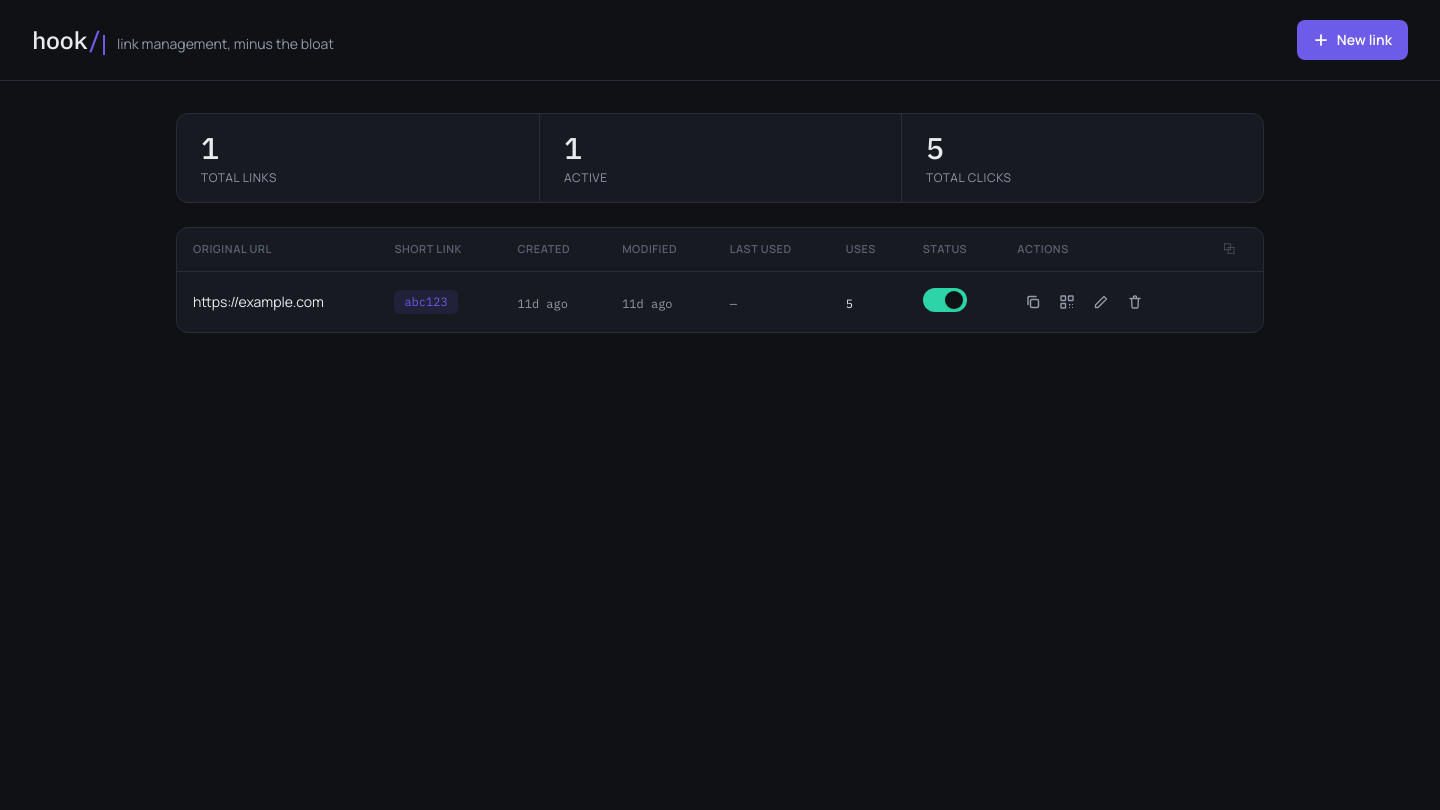
Dashboard — enable/disable › optimistically disables a link on toggle
The image size is (1440, 810).
Click the switch named "disable link": (945,300) 923,288 -> 967,312
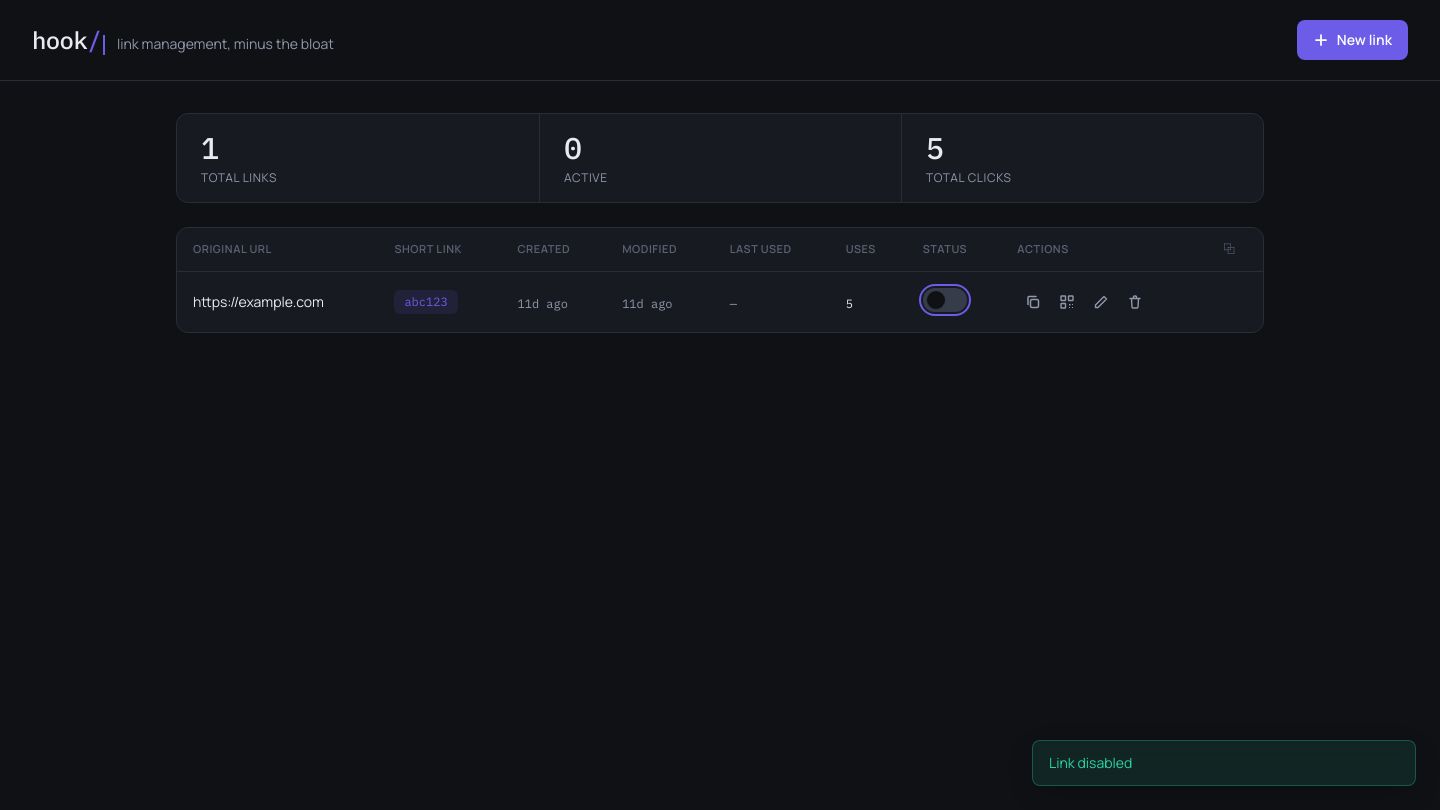
Check: the switch named "enable link" is shown, box 923,288 -> 967,312
